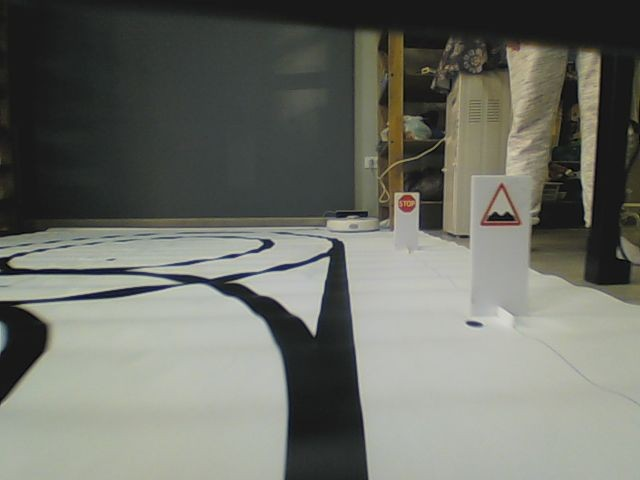Nerov: (479, 181, 523, 228)
Stop: (396, 193, 417, 214)
